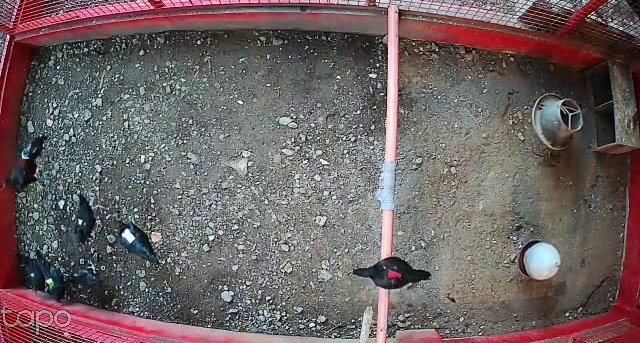Chicken: (350, 250, 436, 295), (33, 246, 76, 306), (113, 216, 162, 266), (16, 252, 50, 296), (73, 193, 98, 250)
Rooster: (0, 132, 56, 198)
Saddle_Color_Blue: (30, 272, 35, 278)
Saddle_Color_Red: (386, 265, 403, 281)
Saddle_Color_White: (121, 226, 137, 243)
Saddle_Color_Yellow: (76, 217, 88, 227)
Saddle_Color_YellowGreen: (45, 278, 56, 289)
